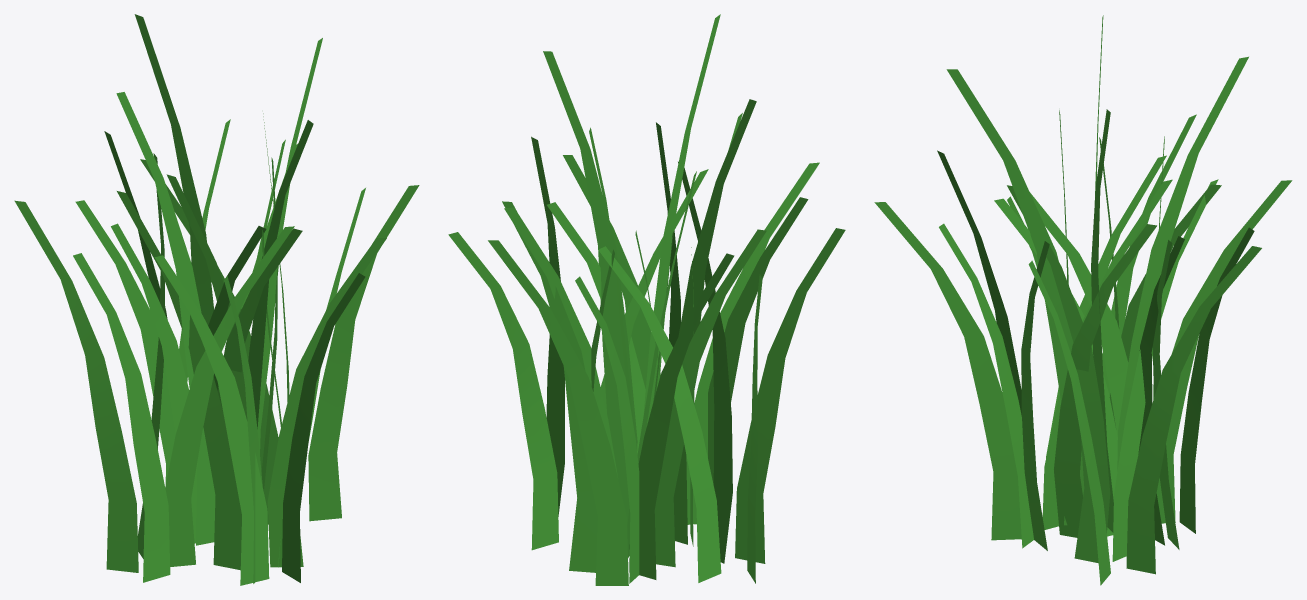
Rendered from grass.glb.
The picture shows the model from 3 angles, left to right: view 1: azimuth 30°, elevation 25°; view 2: azimuth 150°, elevation 25°; view 3: azimuth 270°, elevation 25°; orthographic projection. The views are drawn at different scales.
Parts seen in each view (by area): view 1: Tuft of grass; view 2: Tuft of grass; view 3: Tuft of grass.
Part boxes in pixels (x1,y1,x2,y2): Tuft of grass: (14,14,419,585); Tuft of grass: (448,14,845,585); Tuft of grass: (874,15,1292,585).
Bounding box in the file's own units: 0.9084 × 1.26 × 1.02.
